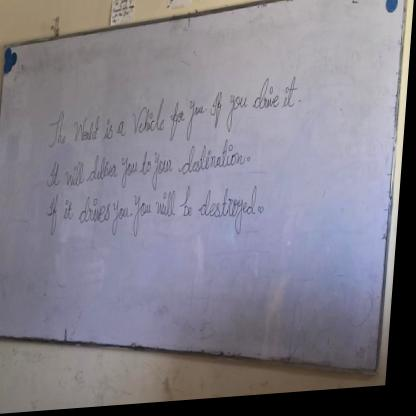Handwritten text: (45, 78, 301, 154), (40, 182, 264, 257), (51, 142, 251, 202)
